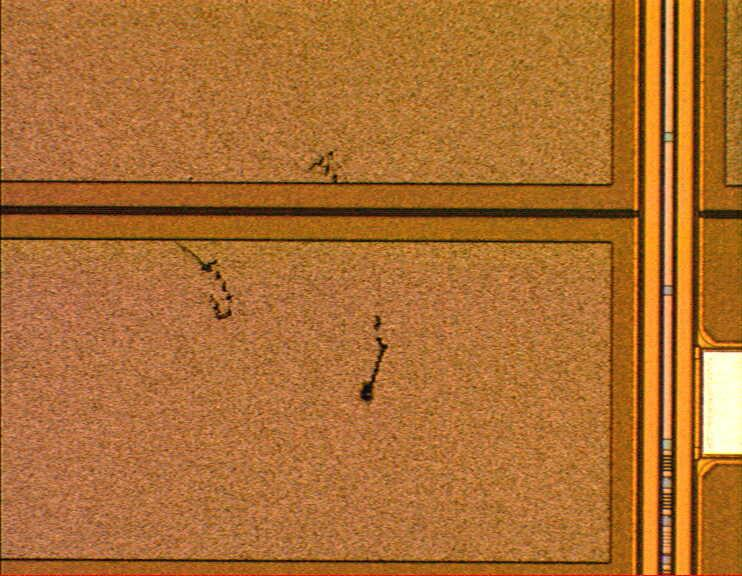SCRATCH: (167, 119, 401, 415)
